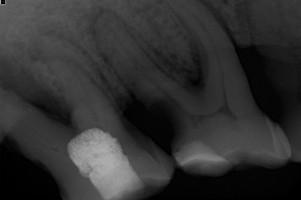Dental Caries: (0, 51, 73, 126)
Endo-Periodontal Lesion: (153, 37, 206, 94)
